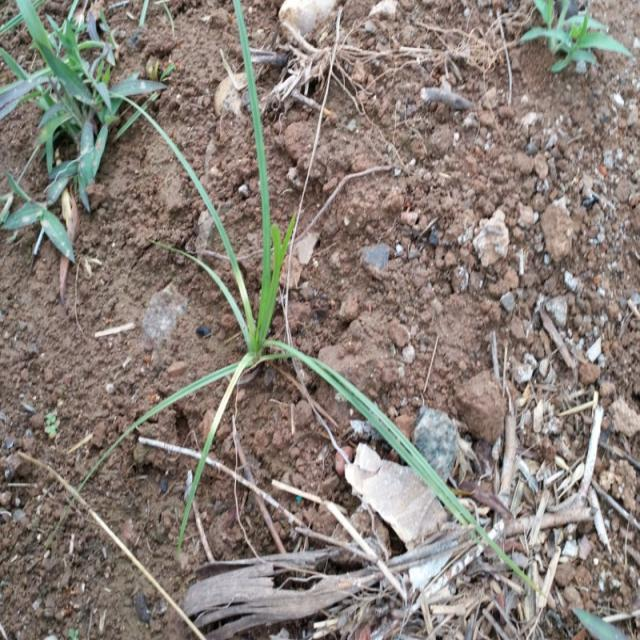sedge: (71, 0, 430, 567)
